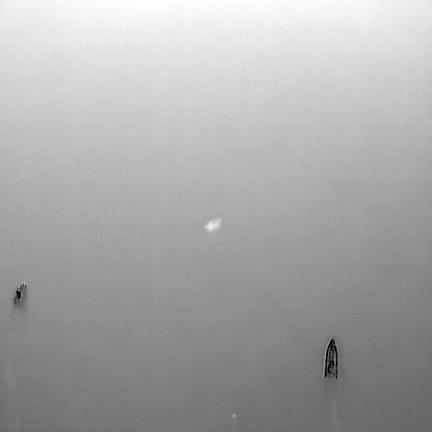flukeprints: (205, 218, 221, 230)
